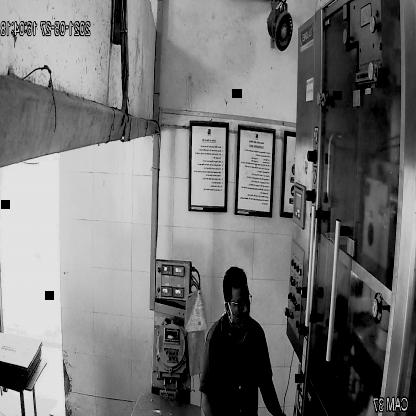goggles: (226, 288, 254, 312)
